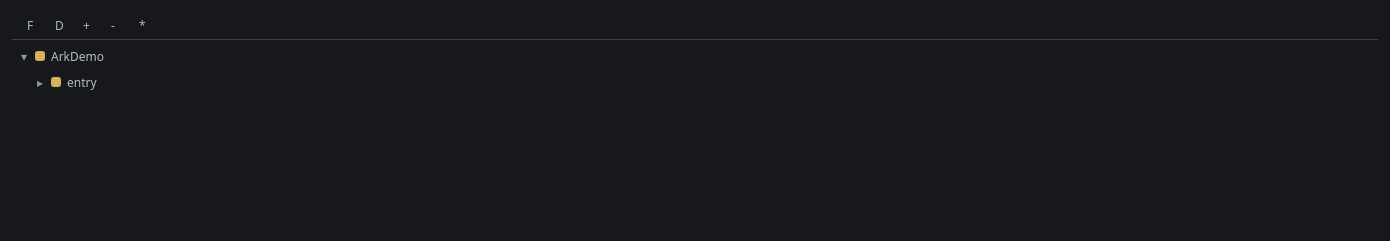
Project tool window › focuses the active file inside a lazy project tree
Step 1. Click the button named "Focus Active File" → (140, 26), box 128,12 -> 152,40
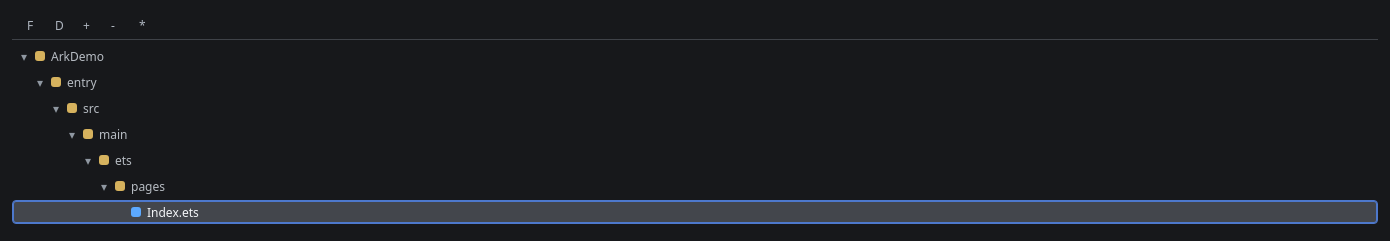
Result: the button "▾ entry" is expanded at 12,70 -> 1378,94
